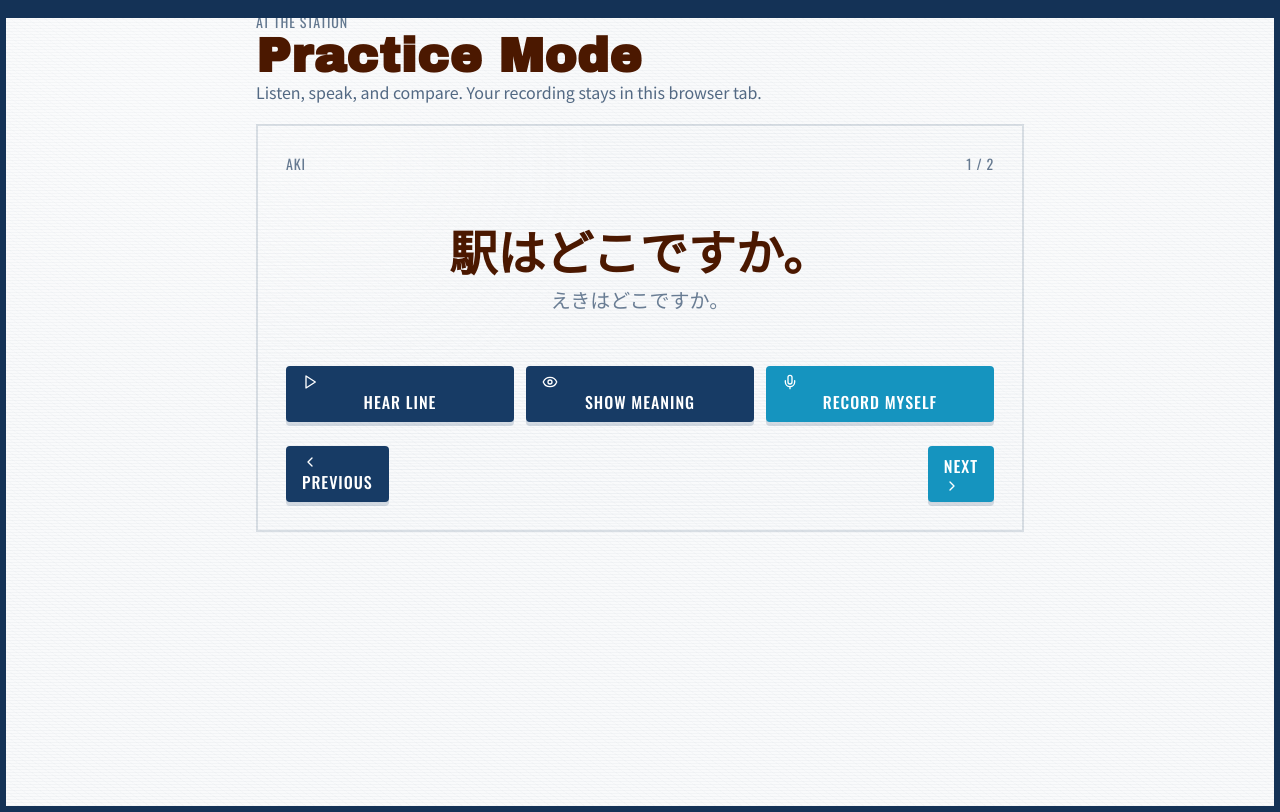
Test: PracticePage › moves line by line and resets the revealed meaning
Expected: the text "駅はどこですか。" is shown, [449,215,831,285]
Step 1. Click the button "Show meaning" → (640, 394), box [526,366,754,422]
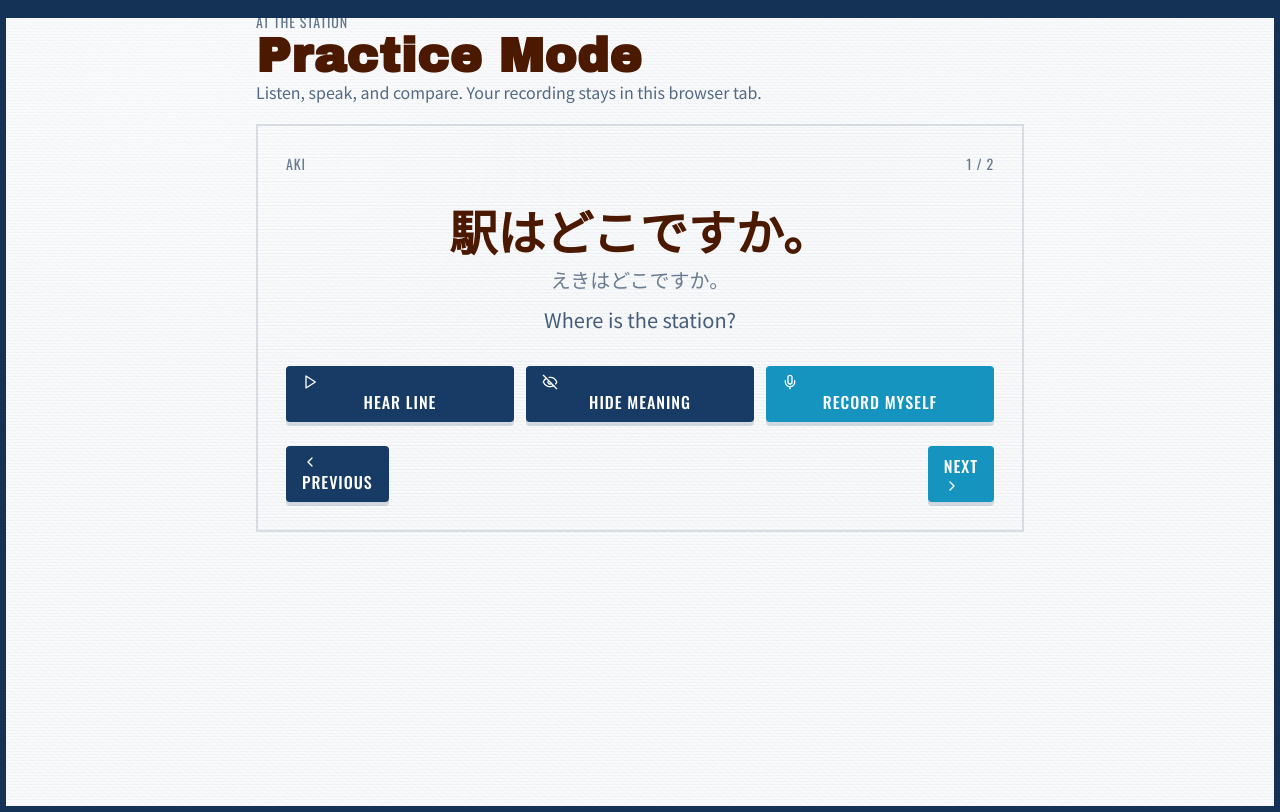
Step 2. Click the button "Next" → (961, 474), box [928,446,994,502]
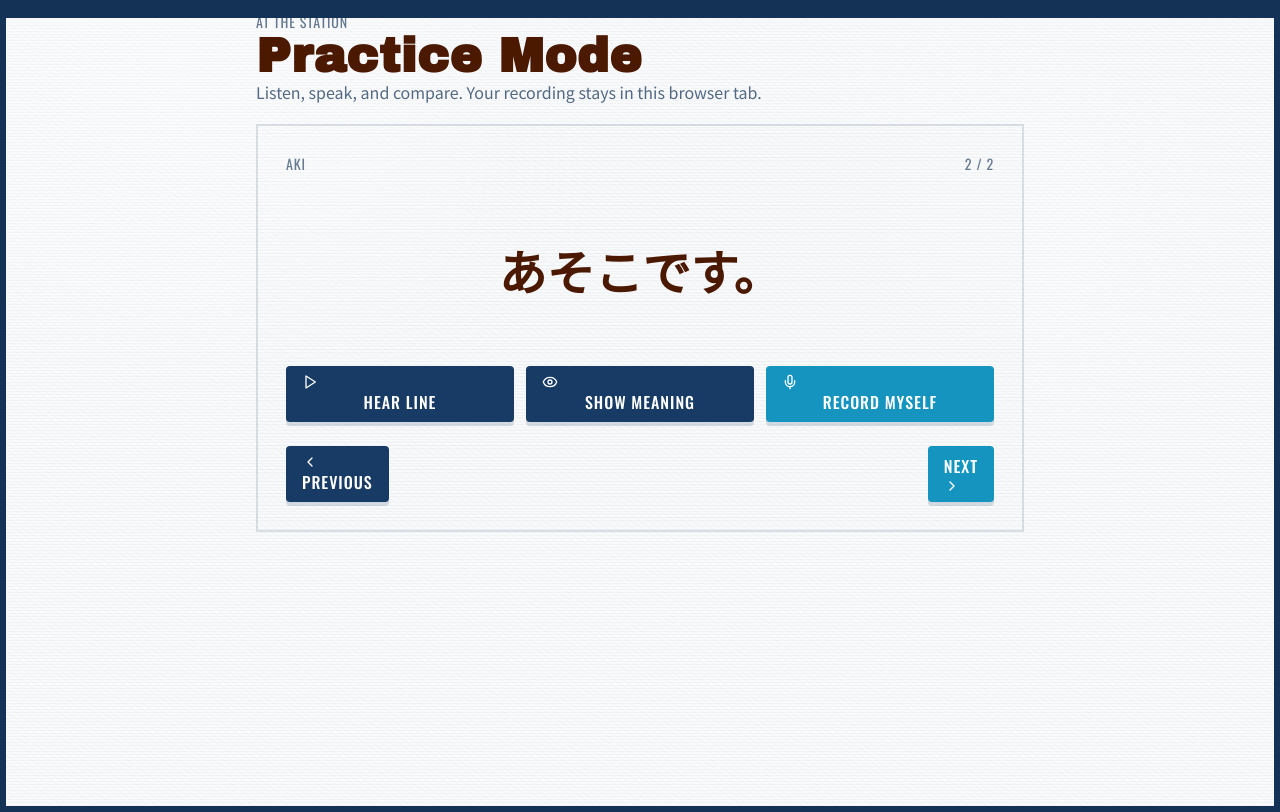
Expected: the text "あそこです。" is shown, [498,235,782,305]
Expected: the text "2 / 2" is shown, [965,154,994,174]
